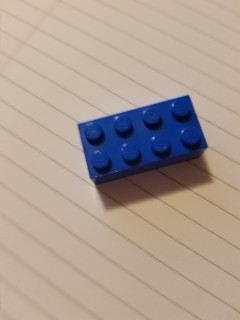2x4 blue: (76, 93, 209, 185)
